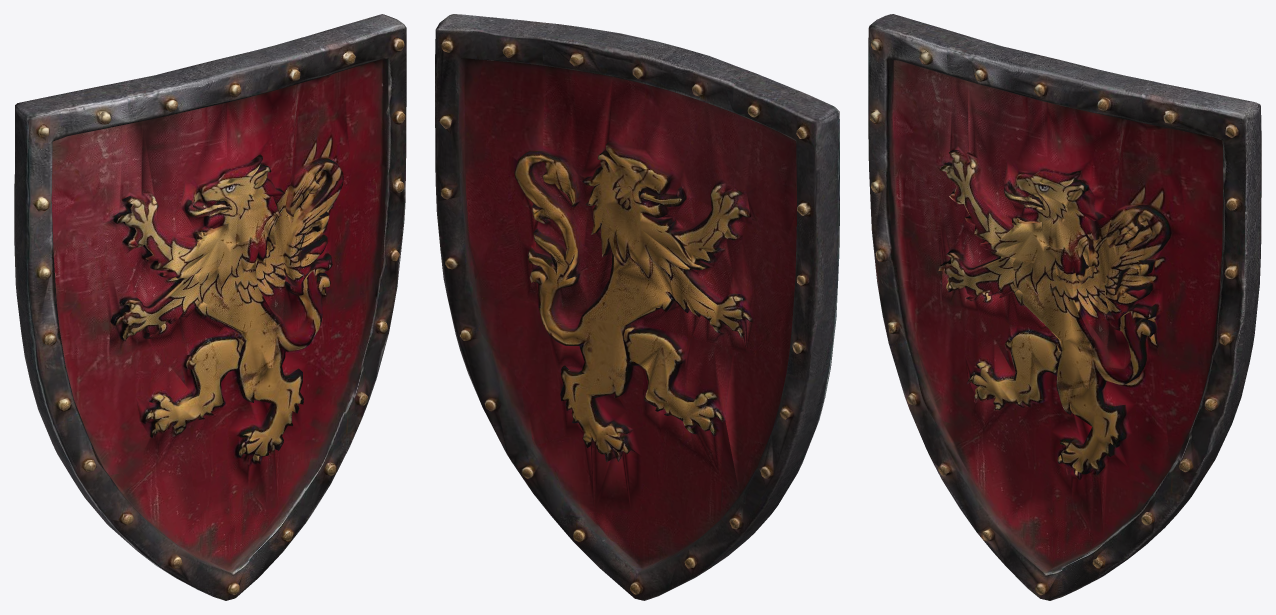
File: black-shield-movil.glb
3 views of the same model, side by side, from view 1: azimuth 30°, elevation 25°; view 2: azimuth 150°, elevation 25°; view 3: azimuth 330°, elevation 25° (orthographic). The views are drawn at different scales.
Parts seen in each view (by area): view 1: tripo_node_161017f1-e1aa-4f9a-8ba3-708ba42ae7f9; view 2: tripo_node_161017f1-e1aa-4f9a-8ba3-708ba42ae7f9; view 3: tripo_node_161017f1-e1aa-4f9a-8ba3-708ba42ae7f9.
Boxes of the visible parts, bbox=[...] form: tripo_node_161017f1-e1aa-4f9a-8ba3-708ba42ae7f9: bbox=[14, 14, 406, 600]; tripo_node_161017f1-e1aa-4f9a-8ba3-708ba42ae7f9: bbox=[435, 14, 839, 600]; tripo_node_161017f1-e1aa-4f9a-8ba3-708ba42ae7f9: bbox=[868, 14, 1261, 600].
Size of the model in its own units: 0.735 by 0.9807 by 0.1367.
1 material, 1 textured.
